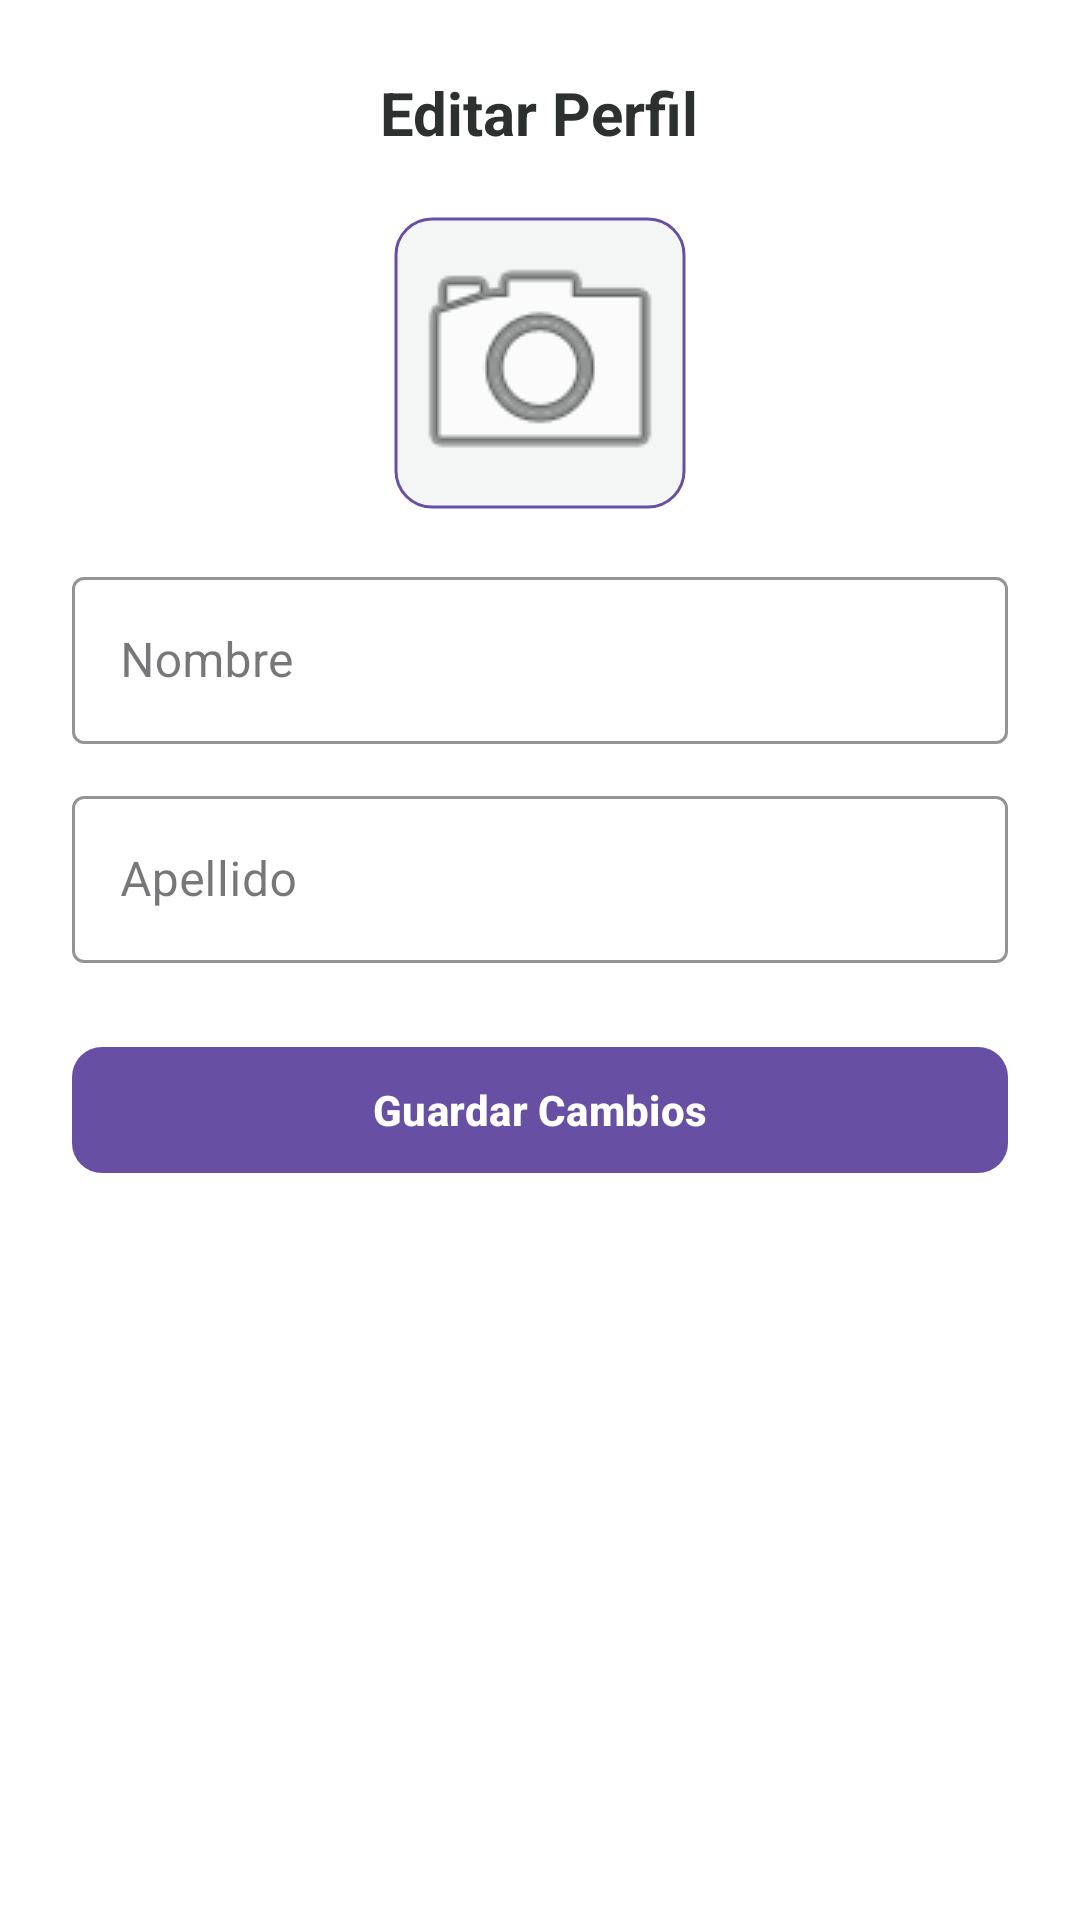

Locate icon controls on the screen. Image size 1080px x 1920px, boxes as (x1, y1, x2, y2).
camera: (394, 217, 686, 509)
